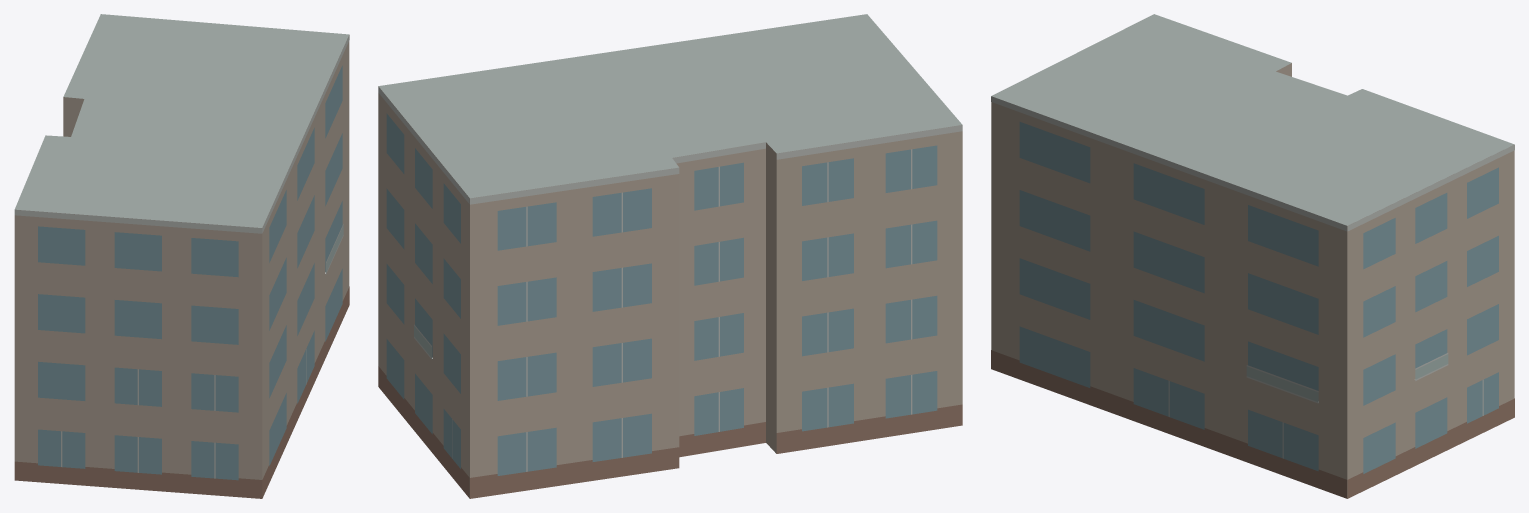
File: survey-upis-32973041.glb
3 renders of one model, left to right at view 1: azimuth 30°, elevation 25°; view 2: azimuth 150°, elevation 25°; view 3: azimuth 270°, elevation 25°, orthographic. The views are drawn at different scales.
Visible parts, largest first — view 1: survey-upis-32973041.tmp; view 2: survey-upis-32973041.tmp; view 3: survey-upis-32973041.tmp.
Part boxes in pixels (x1,y1,x2,y2): survey-upis-32973041.tmp: (14, 14, 349, 498); survey-upis-32973041.tmp: (378, 14, 962, 498); survey-upis-32973041.tmp: (991, 14, 1514, 498).
Bounding box in the file's own units: 19.32 × 11.6 × 20.17.
